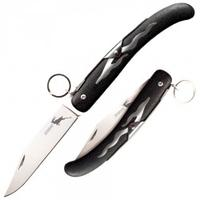knife: (3, 3, 193, 198)
